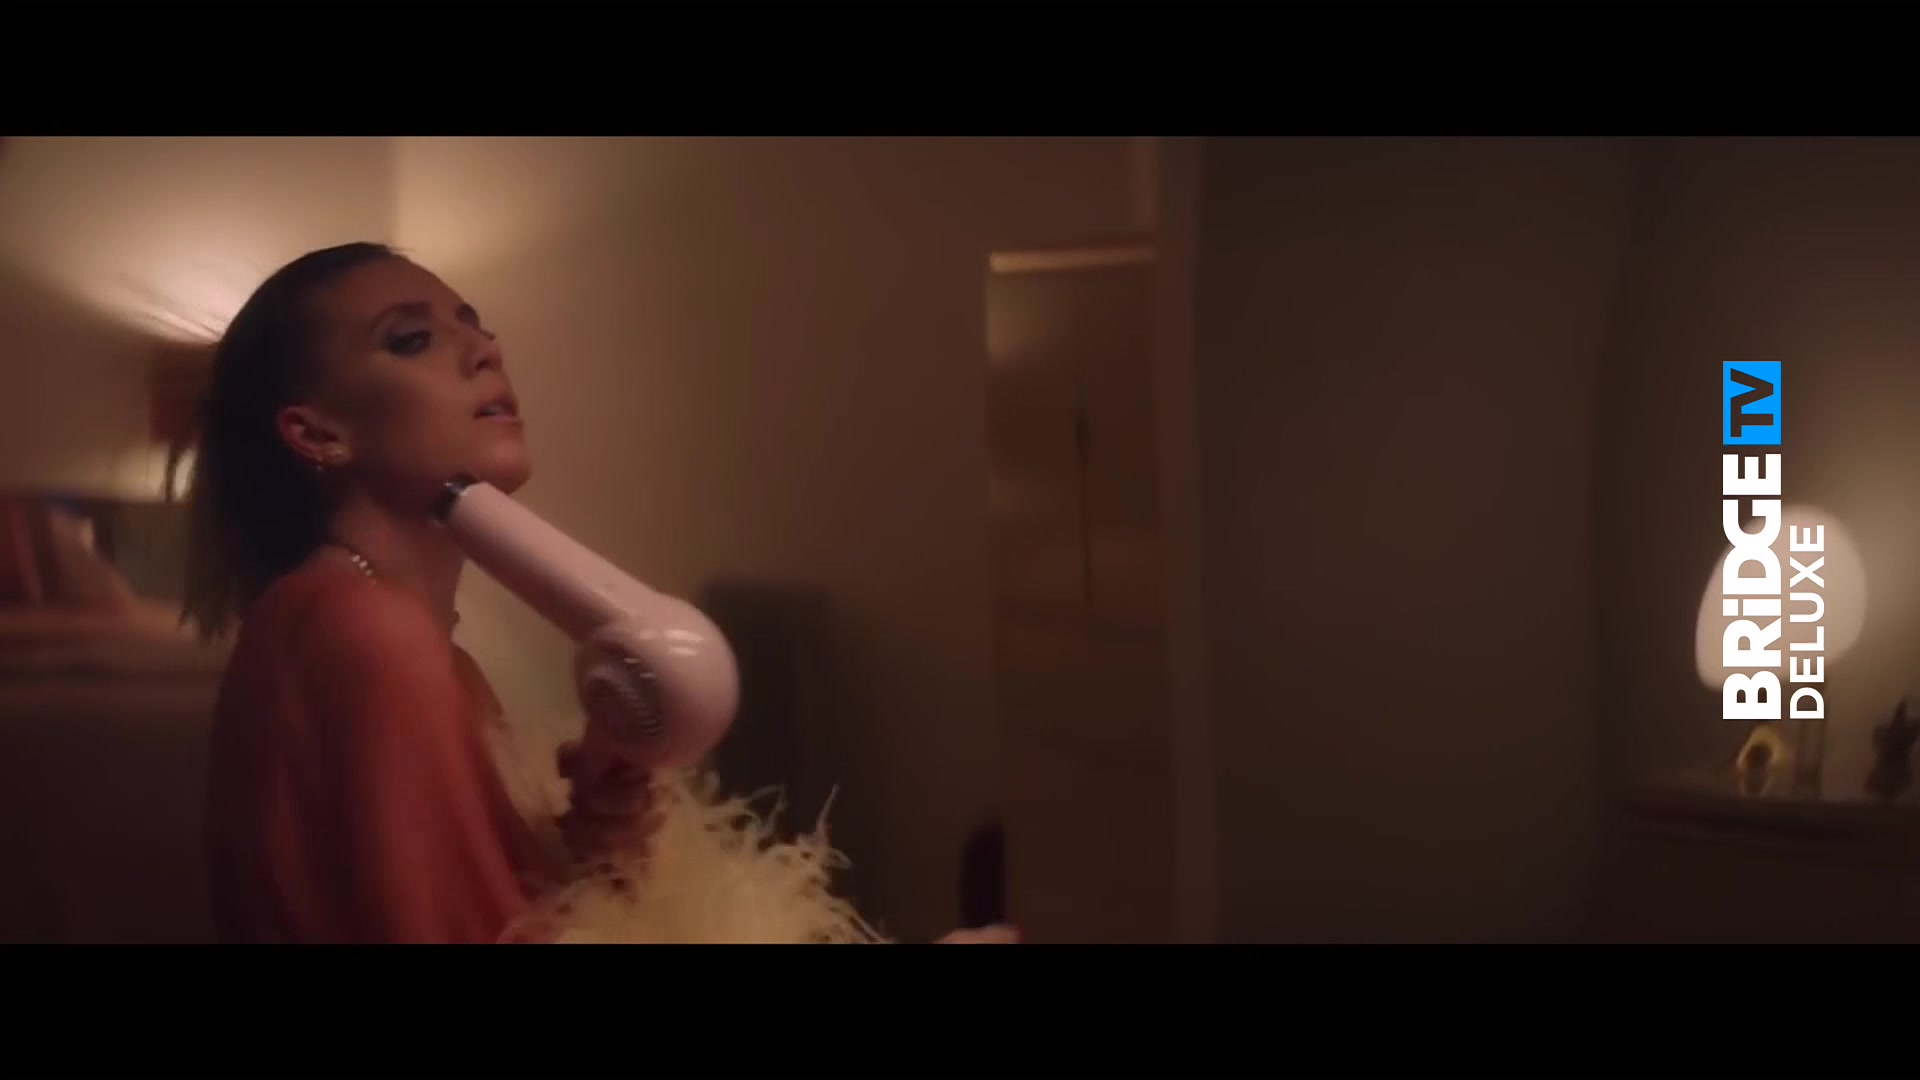Bridge_TV_Deluxe: (1720, 353, 1832, 727)
